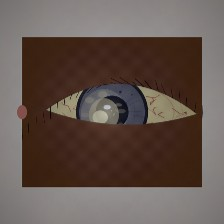corneal_ulcer: (77, 93, 131, 136)
